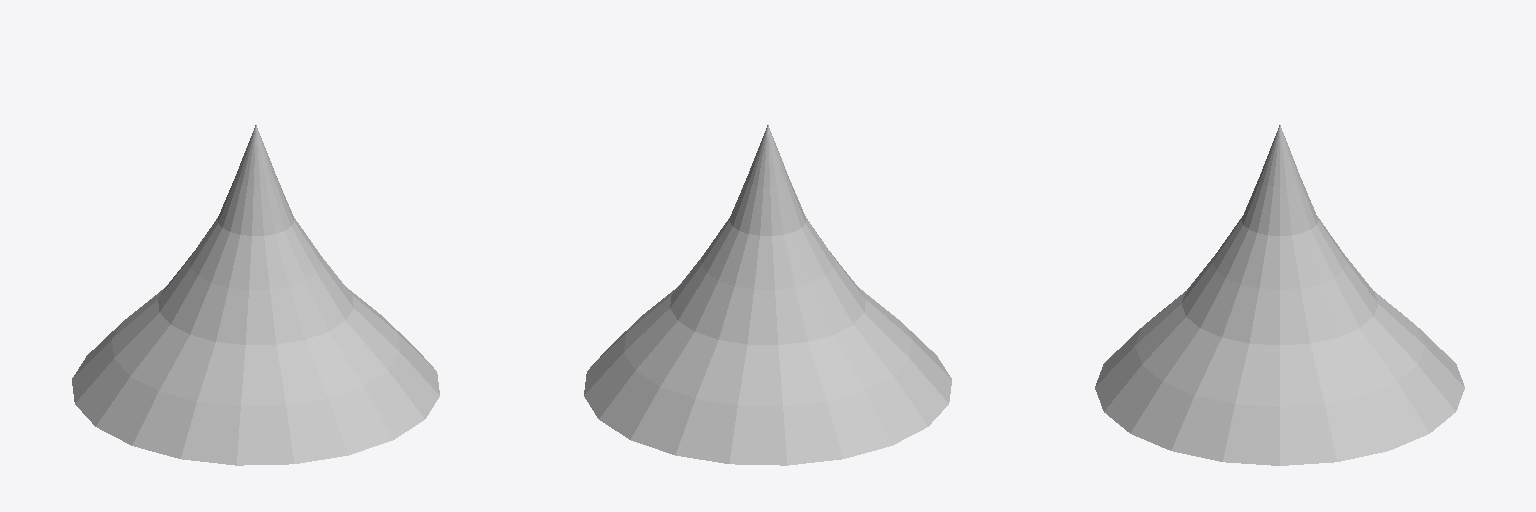
The model's file is ceilling.obj.
3 views of the same model, side by side, from view 1: azimuth 30°, elevation 25°; view 2: azimuth 150°, elevation 25°; view 3: azimuth 270°, elevation 25° (orthographic).
Parts seen in each view (by area): view 1: Ceiling; view 2: Ceiling; view 3: Ceiling.
Boxes of the visible parts, box(x1,y1,x2,y2) form: Ceiling: box(72, 125, 439, 465); Ceiling: box(584, 125, 951, 465); Ceiling: box(1095, 125, 1464, 465).
Bounding box in the file's own units: 178 × 140 × 178.